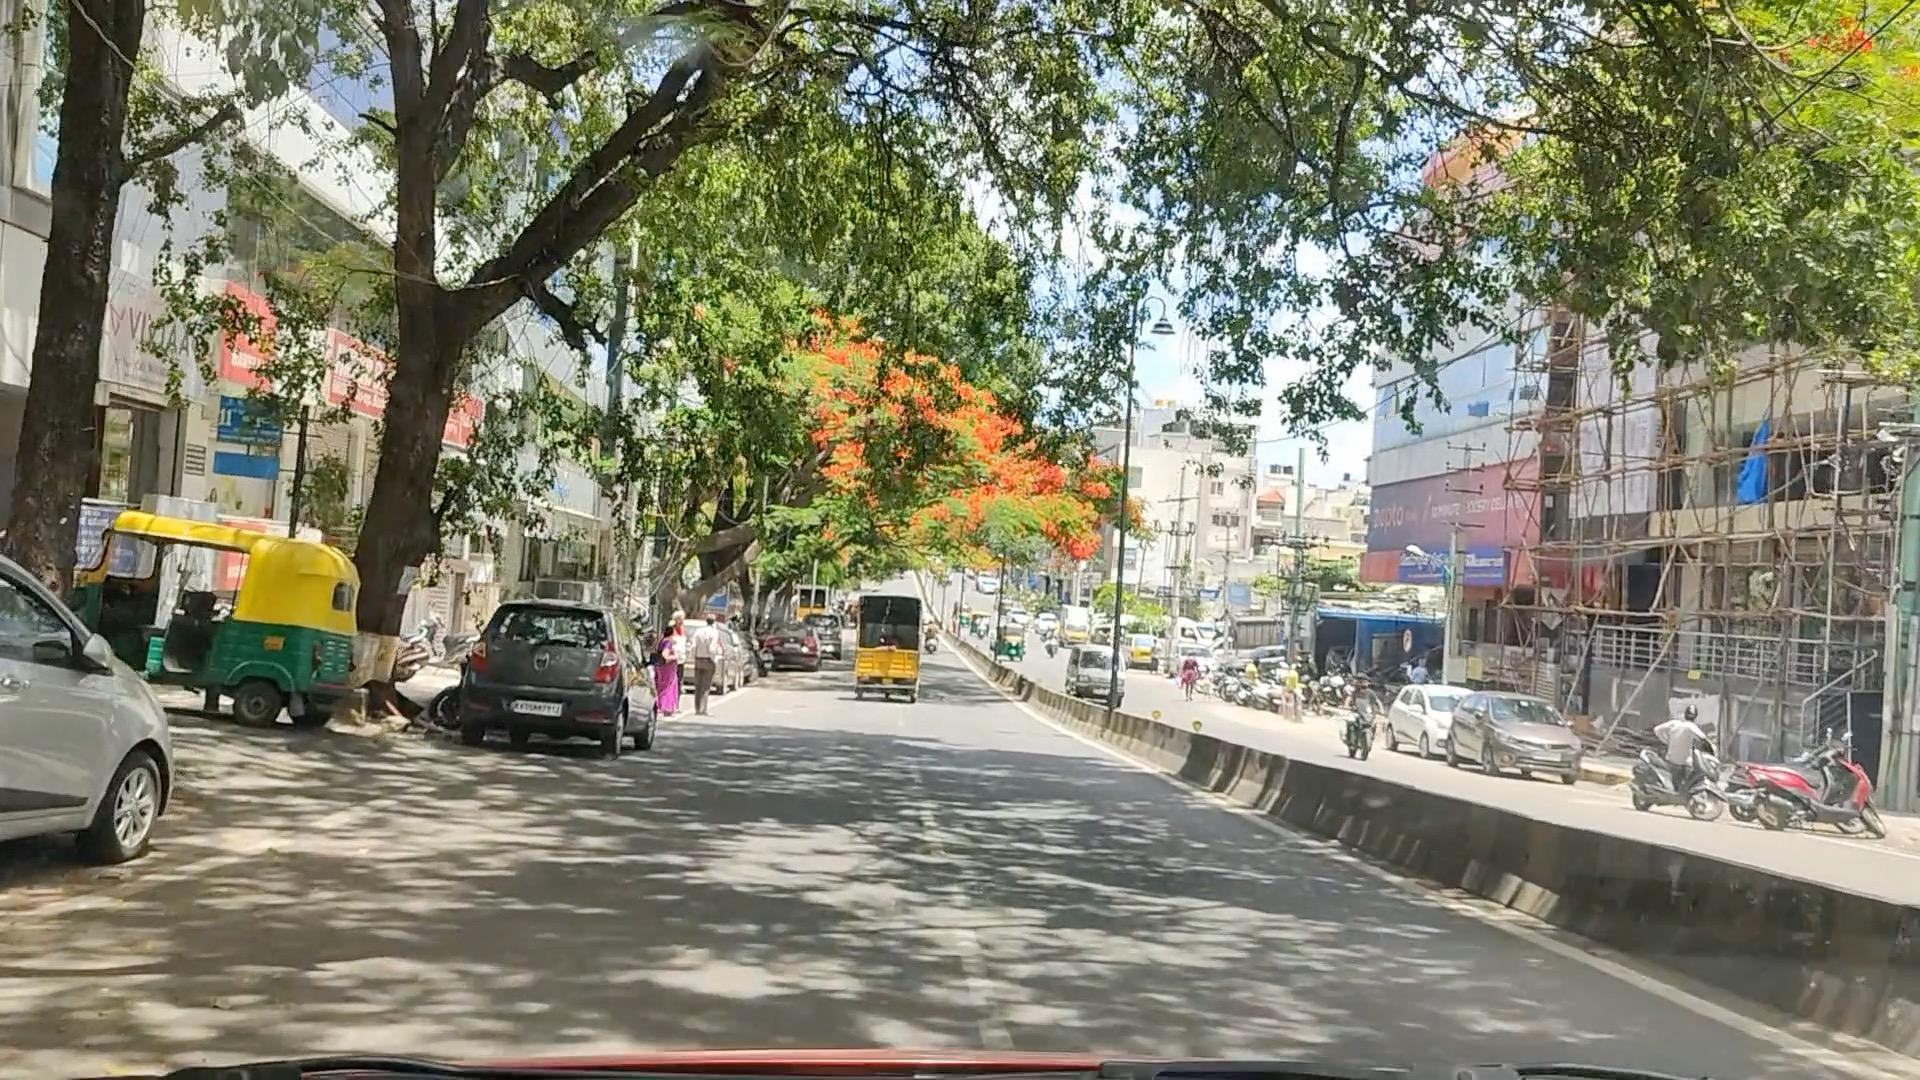HMV: (844, 589, 920, 709)
LMV: (447, 587, 651, 781)
